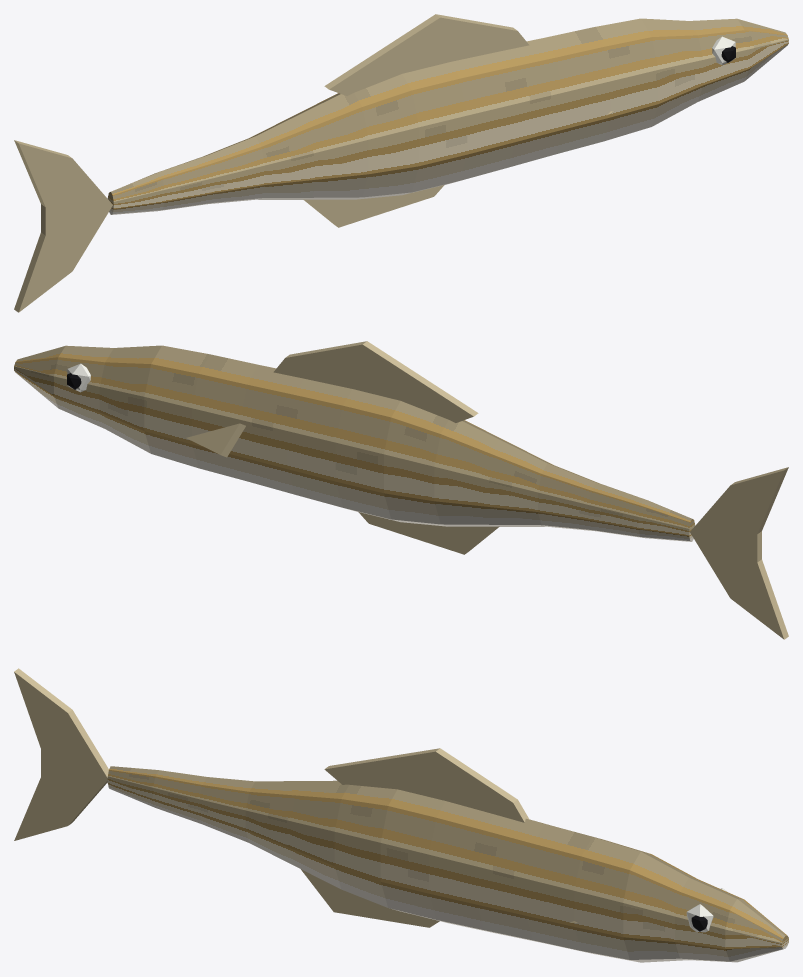
File: trumpeter_whiting.glb
3 renders of one model, top to bottom at view 1: azimuth 30°, elevation 25°; view 2: azimuth 150°, elevation 25°; view 3: azimuth 330°, elevation 25°, orthographic.
Parts seen in each view (by area): view 1: fish_trumpeter_whiting; view 2: fish_trumpeter_whiting; view 3: fish_trumpeter_whiting.
Part boxes in pixels (bbox=[...]): fish_trumpeter_whiting: bbox=[14, 14, 788, 312]; fish_trumpeter_whiting: bbox=[14, 341, 788, 639]; fish_trumpeter_whiting: bbox=[14, 668, 788, 962].
Bounding box in the file's own units: 1.14 × 0.2725 × 0.1267.
4 materials, 1 textured.
